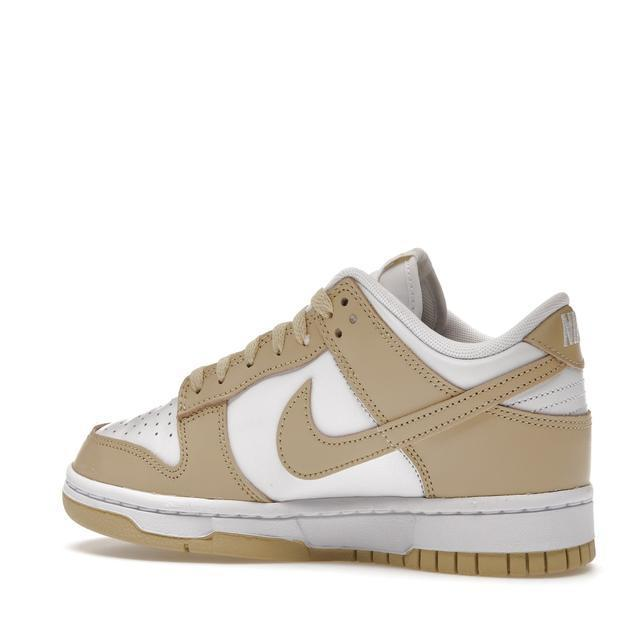J1_ShoeLogo: (61, 246, 597, 578)
J1_StitchPattern: (276, 279, 587, 492), (60, 481, 597, 578), (313, 274, 461, 422), (352, 538, 597, 578), (91, 431, 187, 480)
